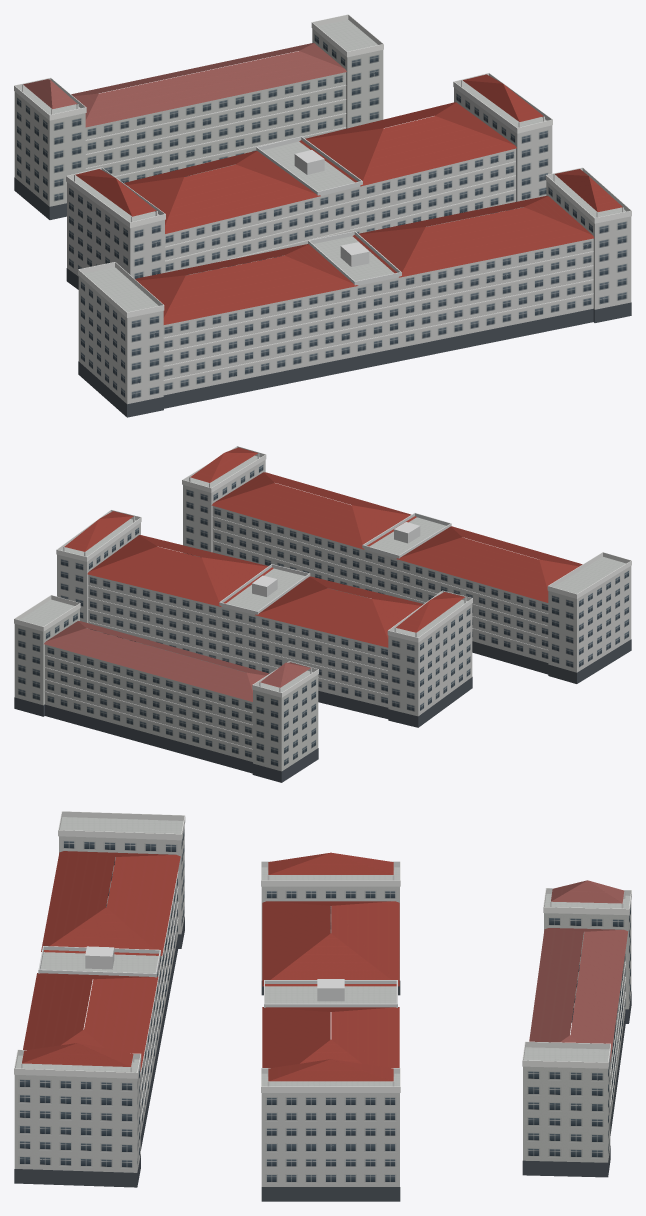
File: dorm_wenyuan_a2.glb
The picture shows the model from 3 angles, top to bottom: view 1: azimuth 30°, elevation 25°; view 2: azimuth 150°, elevation 25°; view 3: azimuth 270°, elevation 25°; orthographic projection. The views are drawn at different scales.
Visible parts, largest first — view 1: 1245446262, 1245446261, 862959378; view 2: 1245446261, 1245446262, 862959378; view 3: 1245446262, 1245446261, 862959378.
Boxes of the visible parts, x1=… form: 1245446262: x1=78, y1=167, x2=631, y2=417; 1245446261: x1=66, y1=73, x2=552, y2=289; 862959378: x1=14, y1=14, x2=383, y2=219; 1245446261: x1=56, y1=509, x2=472, y2=727; 1245446262: x1=182, y1=446, x2=631, y2=683; 862959378: x1=14, y1=595, x2=318, y2=782; 1245446262: x1=14, y1=811, x2=185, y2=1187; 1245446261: x1=261, y1=852, x2=400, y2=1201; 862959378: x1=522, y1=880, x2=631, y2=1177.
Bounding box in the file's own units: 119 × 26.8 × 113.
Materials: 4 (3 with a texture image).
